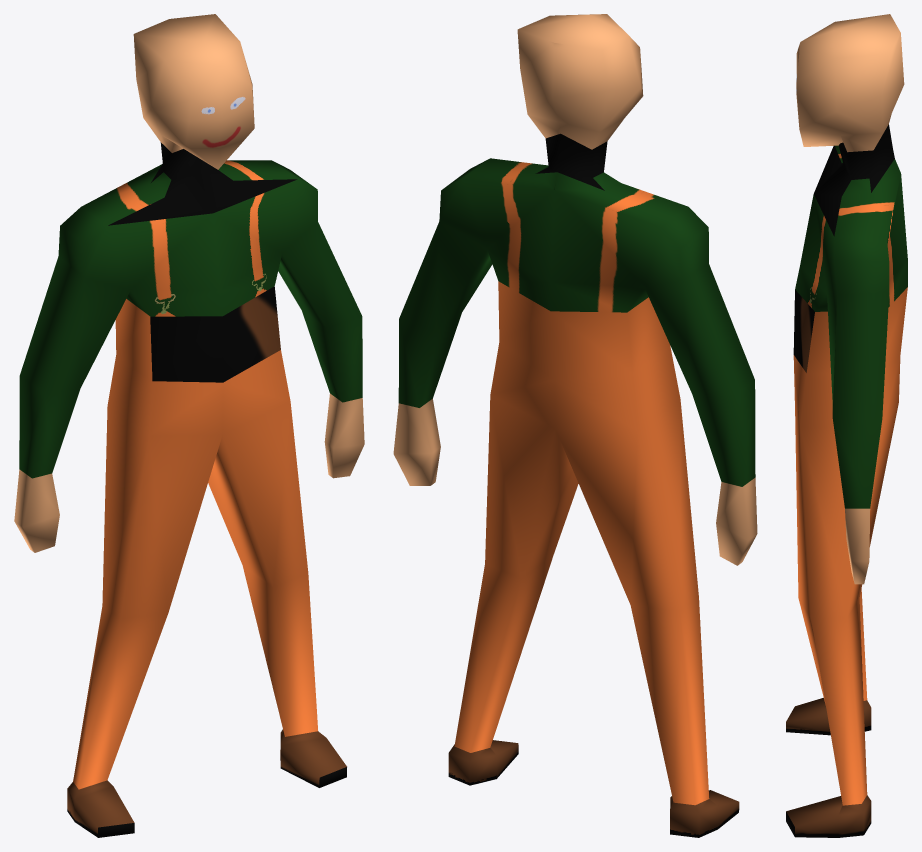
Rendered from Priest.obj.
3 views of the same model, side by side, from view 1: azimuth 30°, elevation 25°; view 2: azimuth 150°, elevation 25°; view 3: azimuth 270°, elevation 25° (orthographic). The views are drawn at different scales.
Parts seen in each view (by area): view 1: Cube; view 2: Cube; view 3: Cube.
Boxes of the visible parts, x1,y1,x2,y2 form: Cube: (14, 14, 364, 837); Cube: (393, 14, 757, 837); Cube: (786, 14, 907, 837).
Bounding box in the file's own units: 3.37 × 7.09 × 1.05.
